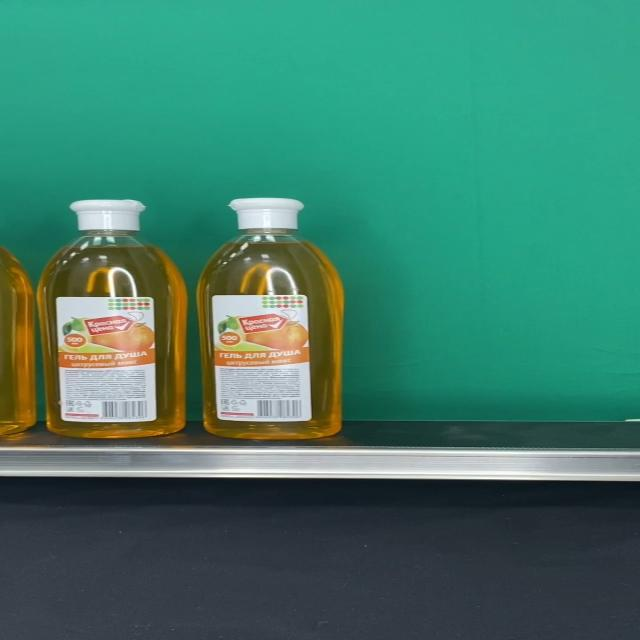Bottle: (37, 200, 186, 438), (198, 198, 344, 439)
Cap: (69, 200, 147, 232), (226, 199, 303, 231)
